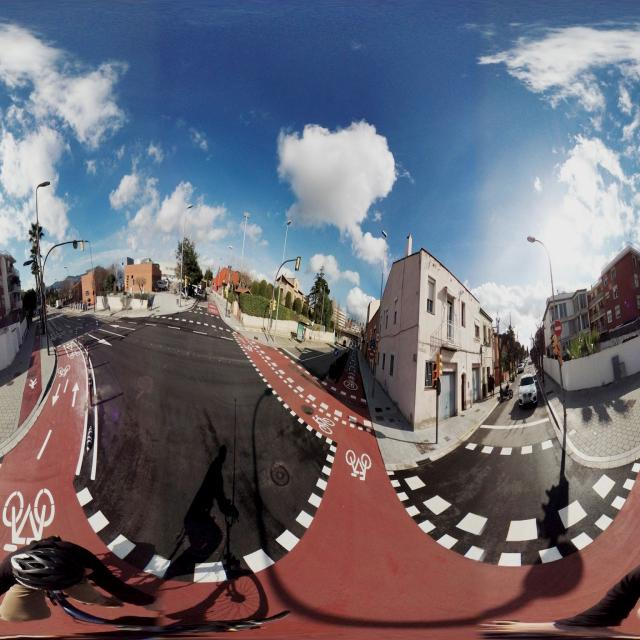car: (518, 374, 538, 410), (500, 378, 512, 401)
